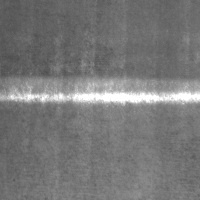scratches: (0, 77, 199, 106)
